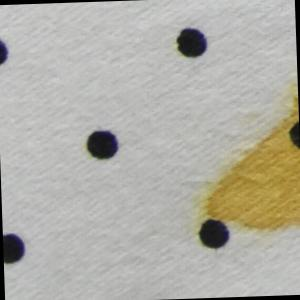Oil Stain: (196, 78, 300, 235)
